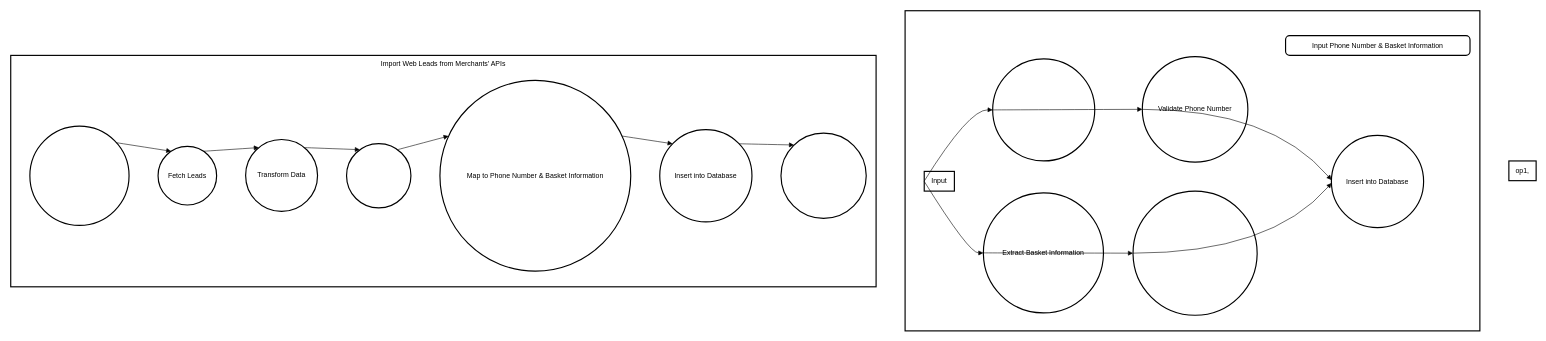
This 1546x341 diagram has some shape labels left out. Here are the shapes that lost their labels. From the top down, the box of each, then its label:
(992, 58, 1095, 161): Extract Phone Number
(29, 125, 129, 226): Authenticate with API
(346, 143, 411, 208): Validate Data
(780, 132, 867, 219): Send Confirmation
(904, 10, 1480, 331): Insert Leads
(1132, 190, 1257, 316): Validate Basket Information
